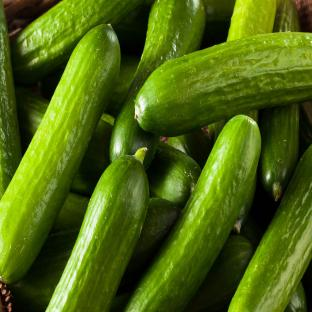Cucumber: (0, 25, 120, 283), (125, 116, 260, 311), (135, 33, 311, 136), (46, 148, 148, 311), (110, 0, 204, 168), (229, 147, 311, 311), (11, 0, 143, 83), (9, 228, 78, 311), (120, 198, 181, 290), (184, 236, 254, 311), (0, 3, 21, 198), (147, 142, 201, 208), (71, 115, 113, 196), (15, 86, 49, 154), (114, 0, 153, 54), (106, 55, 139, 116), (227, 0, 276, 41), (168, 129, 214, 168), (51, 192, 89, 233), (233, 175, 257, 233), (38, 67, 64, 100), (240, 216, 263, 249), (284, 282, 307, 311), (299, 102, 311, 156), (214, 118, 230, 142), (110, 293, 130, 311), (209, 123, 216, 142)
